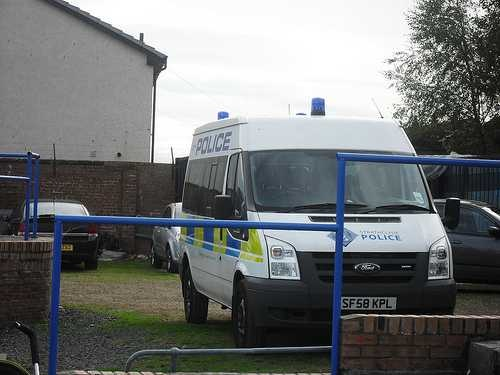Police Van: (162, 88, 471, 340)
